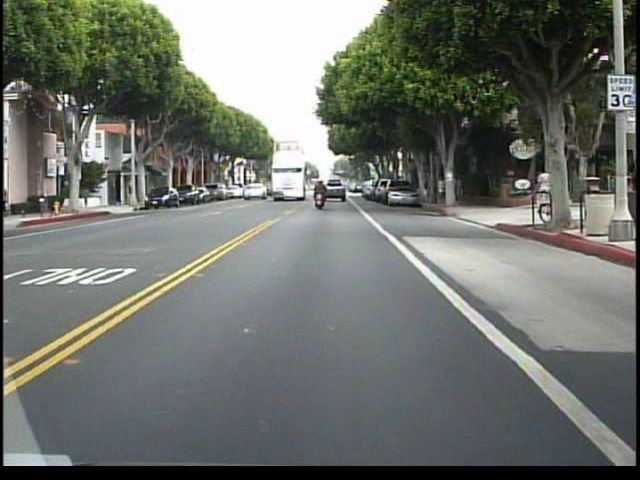person: (311, 176, 329, 216), (432, 173, 445, 207), (448, 172, 457, 202), (457, 174, 464, 203)
